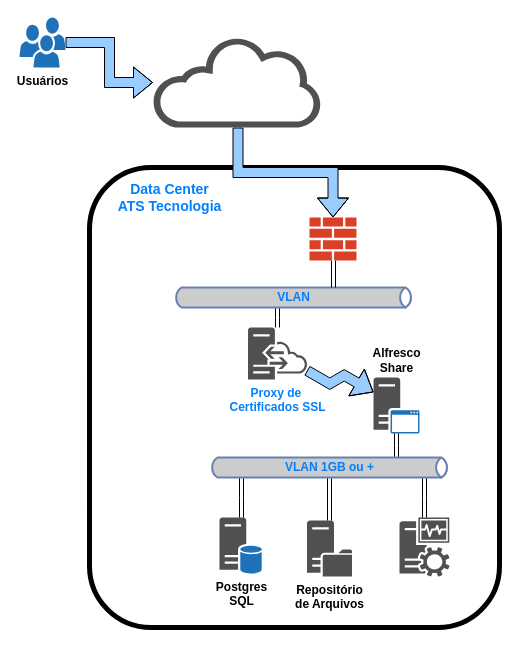
Some shapes in this 519 by 647 pixel diagram are drawn without their labels. The shapes that lost their labels are listed below. From the top down, each one's box as (x1, y1, x2, y2) in pixels, then its label:
(152, 37, 322, 127): Internet
(309, 217, 356, 260): Firewall
(399, 517, 449, 576): SOLR Índices
